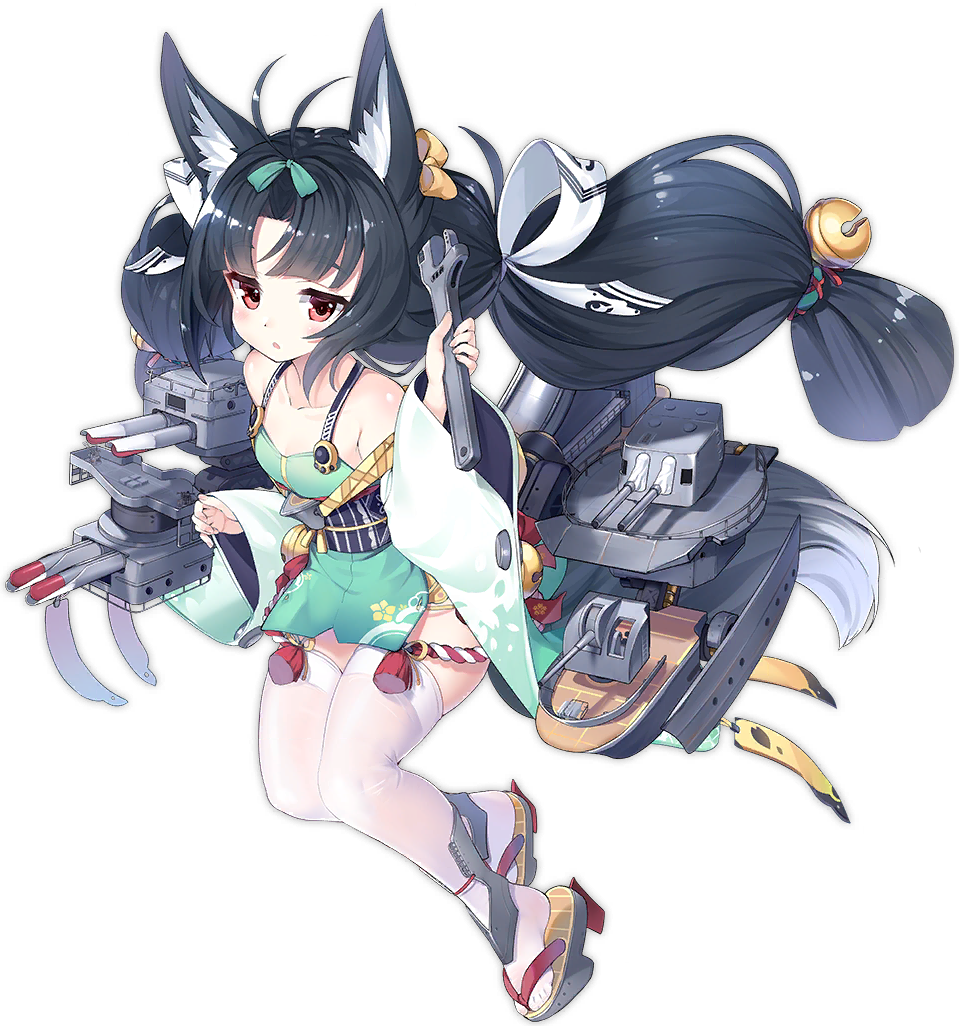person: (108, 105, 639, 1026)
